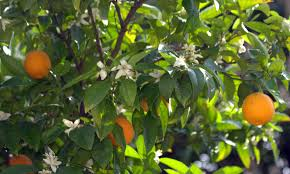orange: (239, 90, 274, 127), (19, 47, 52, 81), (104, 113, 136, 144)
